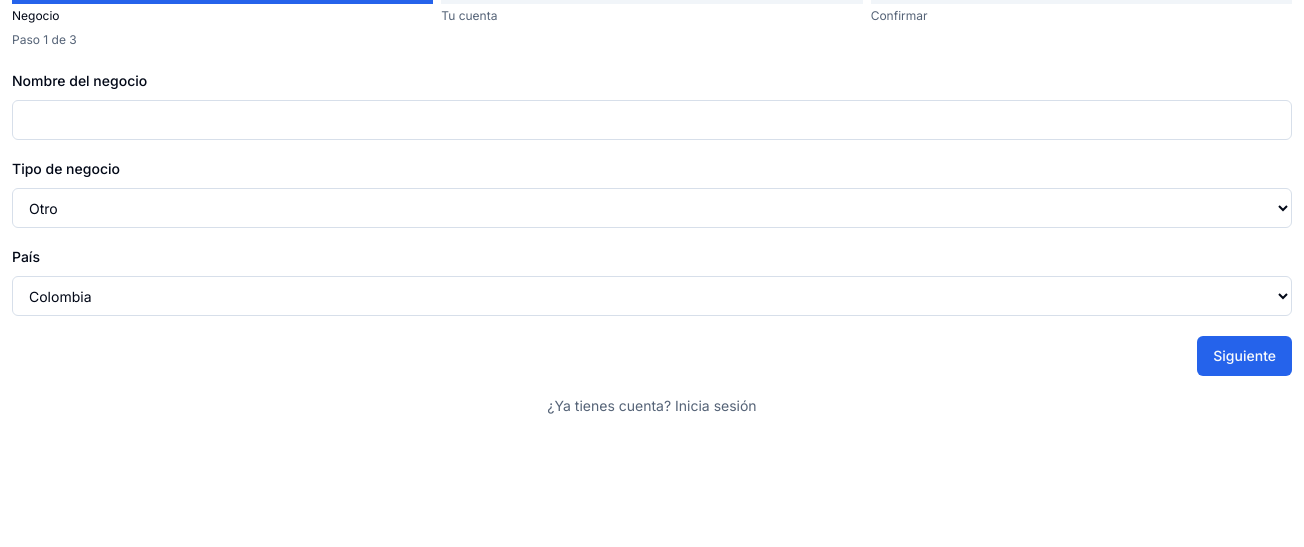
Test case: OnboardingWizard › rechaza una contraseña floja
Type "Panadería La Espiga" into the field labelled "Nombre del negocio".
click(652, 120); type("Panadería La Espiga")  # box [12,100,1292,140]
Click the button "Siguiente".
click(1245, 356)  # box [1197,336,1292,376]
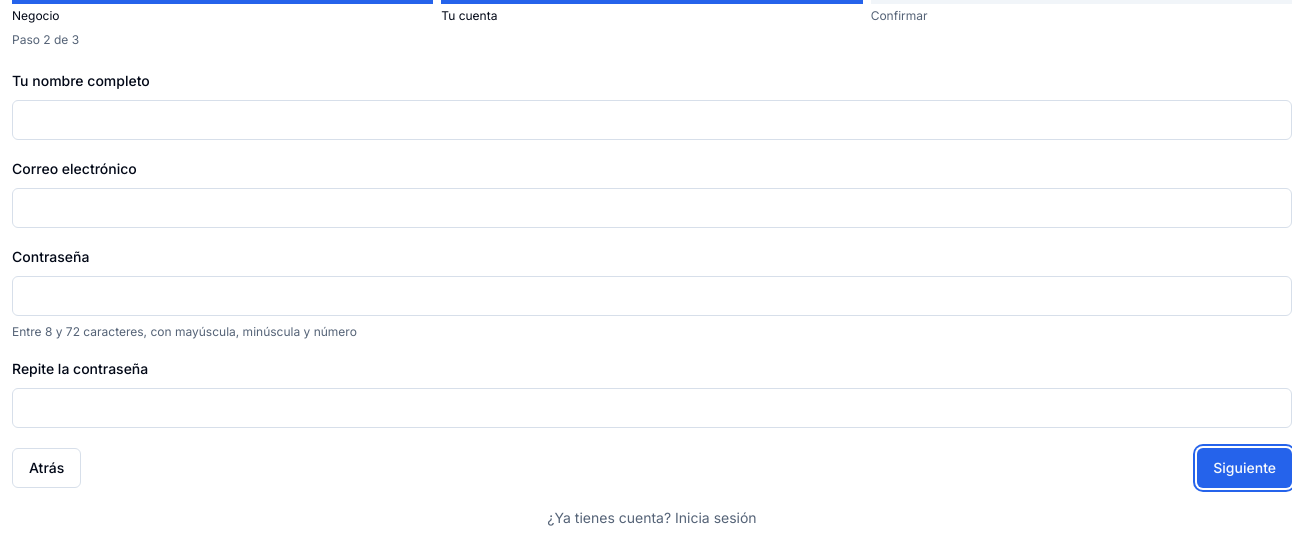
Type "Ana Gómez" into the field labelled "Tu nombre completo".
click(652, 120); type("Ana Gómez")  # box [12,100,1292,140]
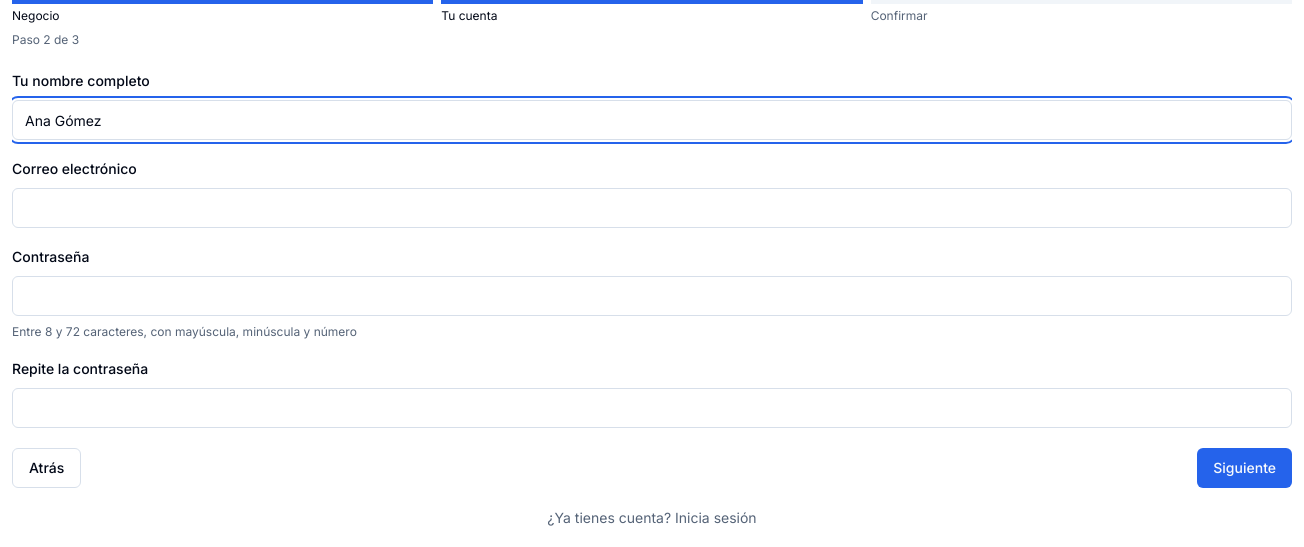
Type "ana@example.com" into the field labelled "Correo electrónico".
click(652, 208); type("ana@example.com")  # box [12,188,1292,228]
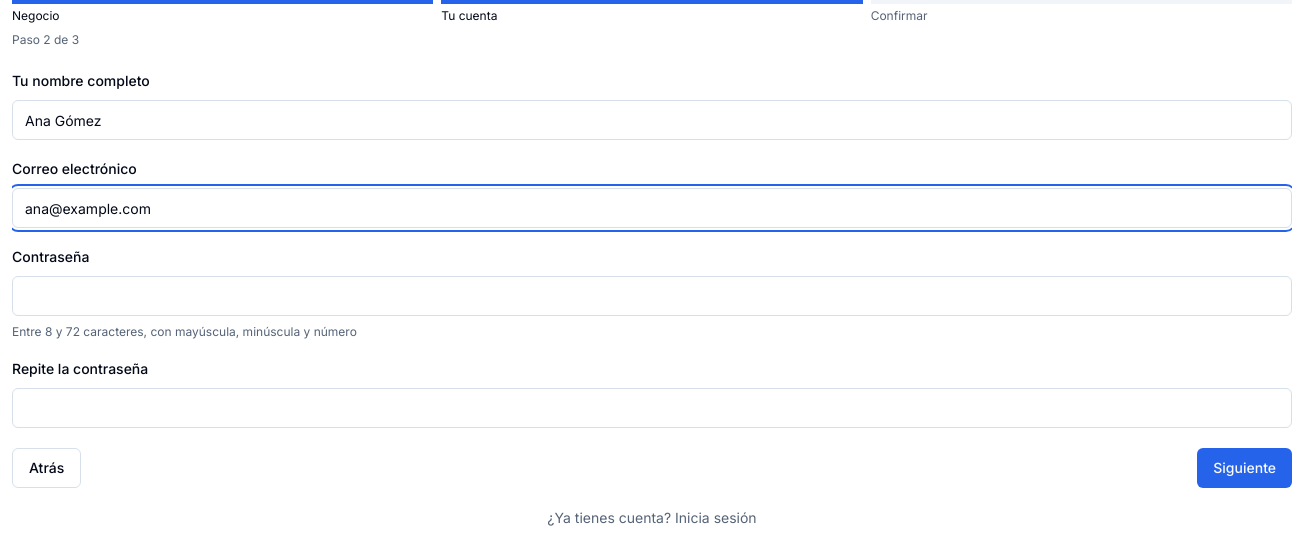
Type "todominusculas1" into the password field labelled "Contraseña".
click(652, 296); type("todominusculas1")  # box [12,276,1292,316]
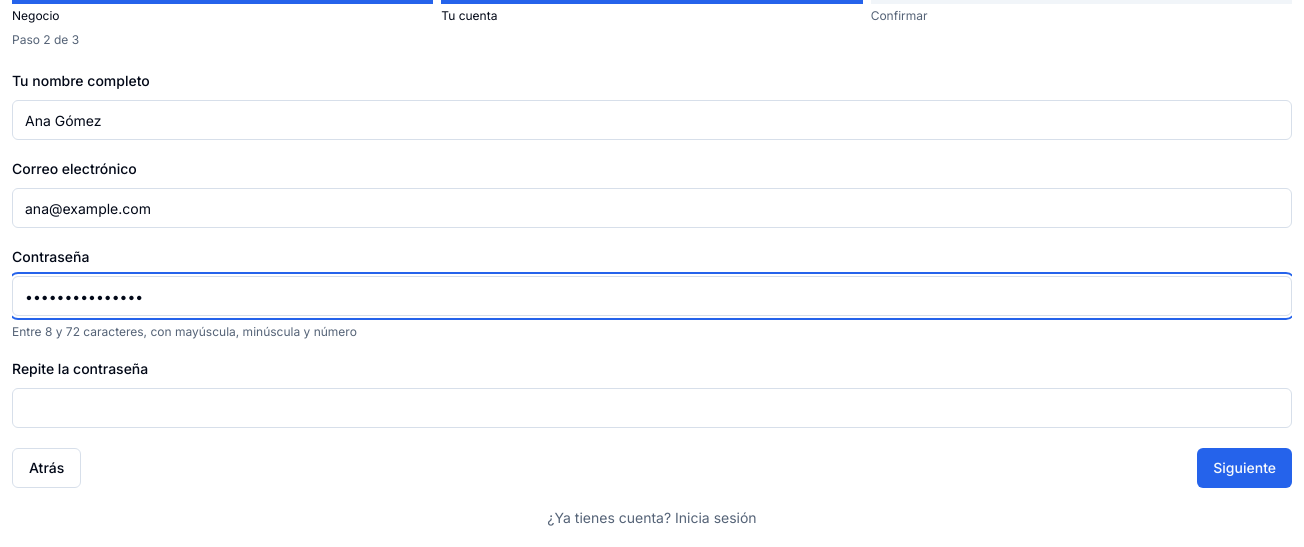
Type "todominusculas1" into the password field labelled "Repite la contraseña".
click(652, 408); type("todominusculas1")  # box [12,388,1292,428]
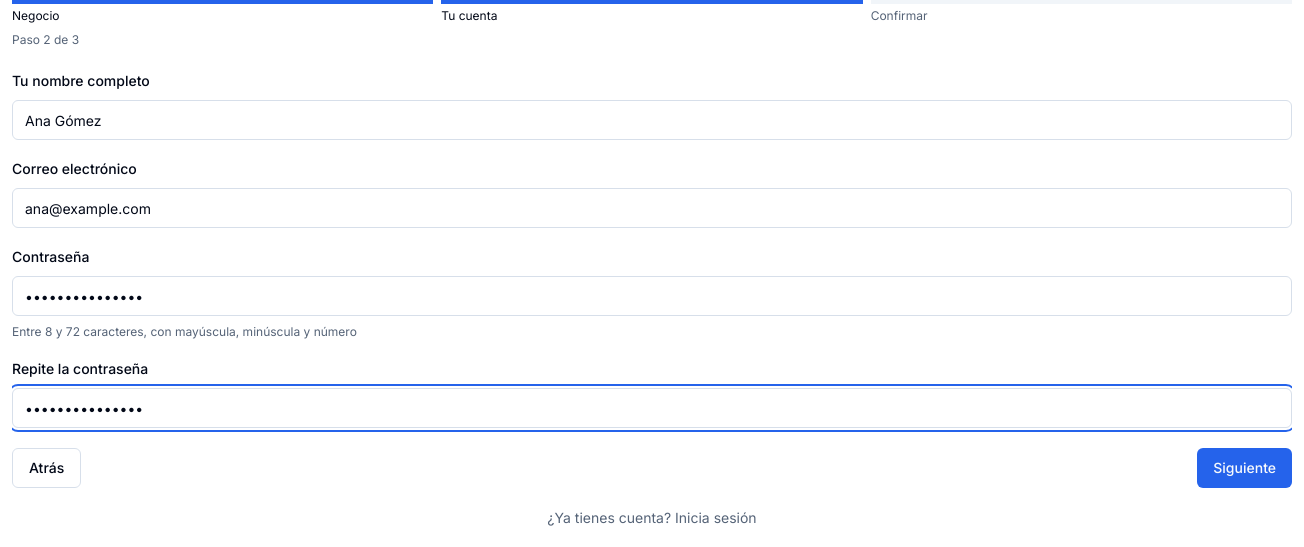
Click the button "Siguiente".
click(1245, 468)  # box [1197,448,1292,488]
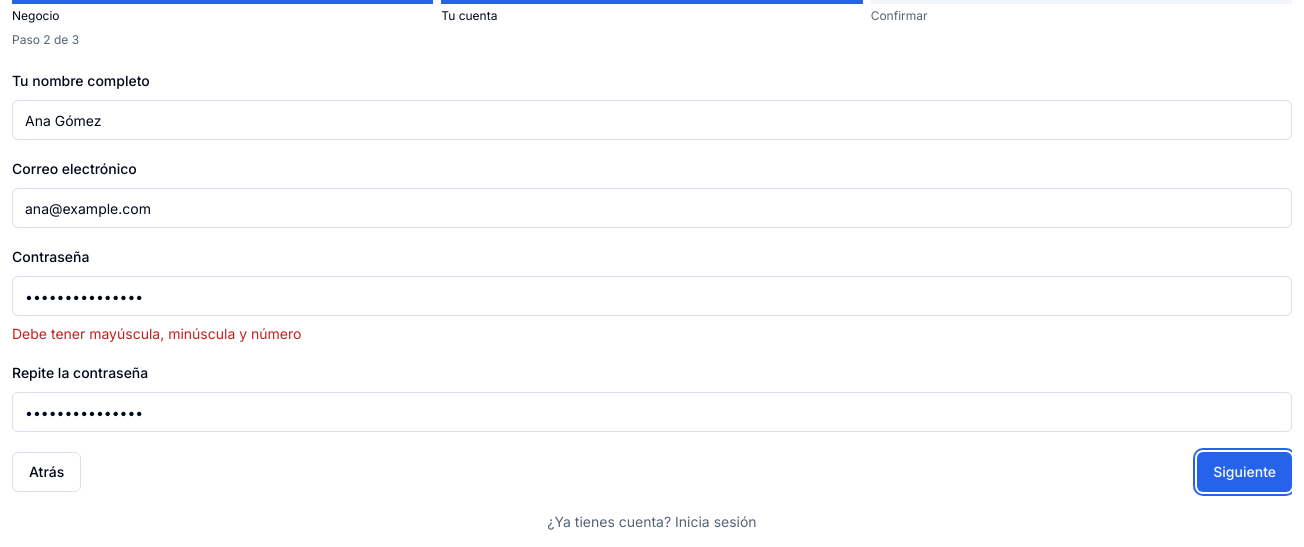
Expected: the text "Debe tener mayúscula, minúscula y número" is shown, [12,325,301,342]
